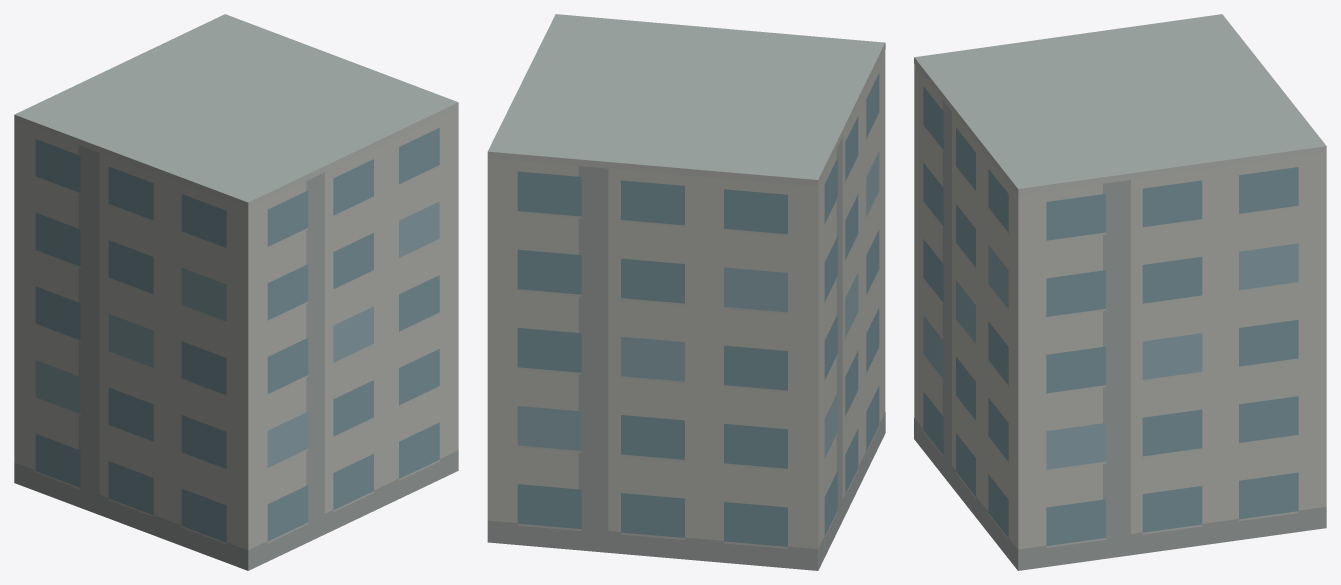
File: survey-upis-32890830.glb
The picture shows the model from 3 angles, left to right: view 1: azimuth 30°, elevation 25°; view 2: azimuth 150°, elevation 25°; view 3: azimuth 270°, elevation 25°; orthographic projection. The views are drawn at different scales.
Visible parts, largest first — view 1: survey-upis-32890830.tmp; view 2: survey-upis-32890830.tmp; view 3: survey-upis-32890830.tmp.
Boxes of the visible parts, box(x1,y1,x2,y2) form: survey-upis-32890830.tmp: box(14, 14, 458, 570); survey-upis-32890830.tmp: box(487, 14, 885, 570); survey-upis-32890830.tmp: box(914, 14, 1326, 570).
Bounding box in the file's own units: 14 × 14.24 × 13.95.
